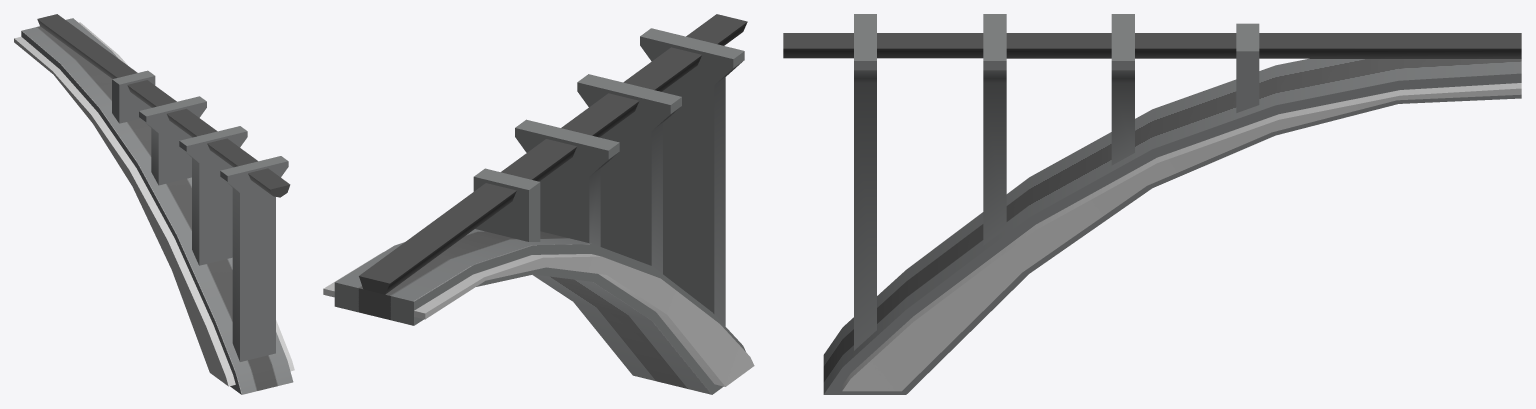
The model's file is Bridge4Arch1.fbx.
3 renders of one model, left to right at view 1: azimuth 30°, elevation 25°; view 2: azimuth 150°, elevation 25°; view 3: azimuth 270°, elevation 25°, orthographic. The views are drawn at different scales.
Parts seen in each view (by area): view 1: Bridge4Arch1; view 2: Bridge4Arch1; view 3: Bridge4Arch1.
Part boxes in pixels (x1=…): Bridge4Arch1: x1=14, y1=14, x2=294, y2=394; Bridge4Arch1: x1=323, y1=14, x2=754, y2=394; Bridge4Arch1: x1=783, y1=14, x2=1521, y2=394.
Bounding box in the file's own units: 11.81 × 36.3 × 72.
